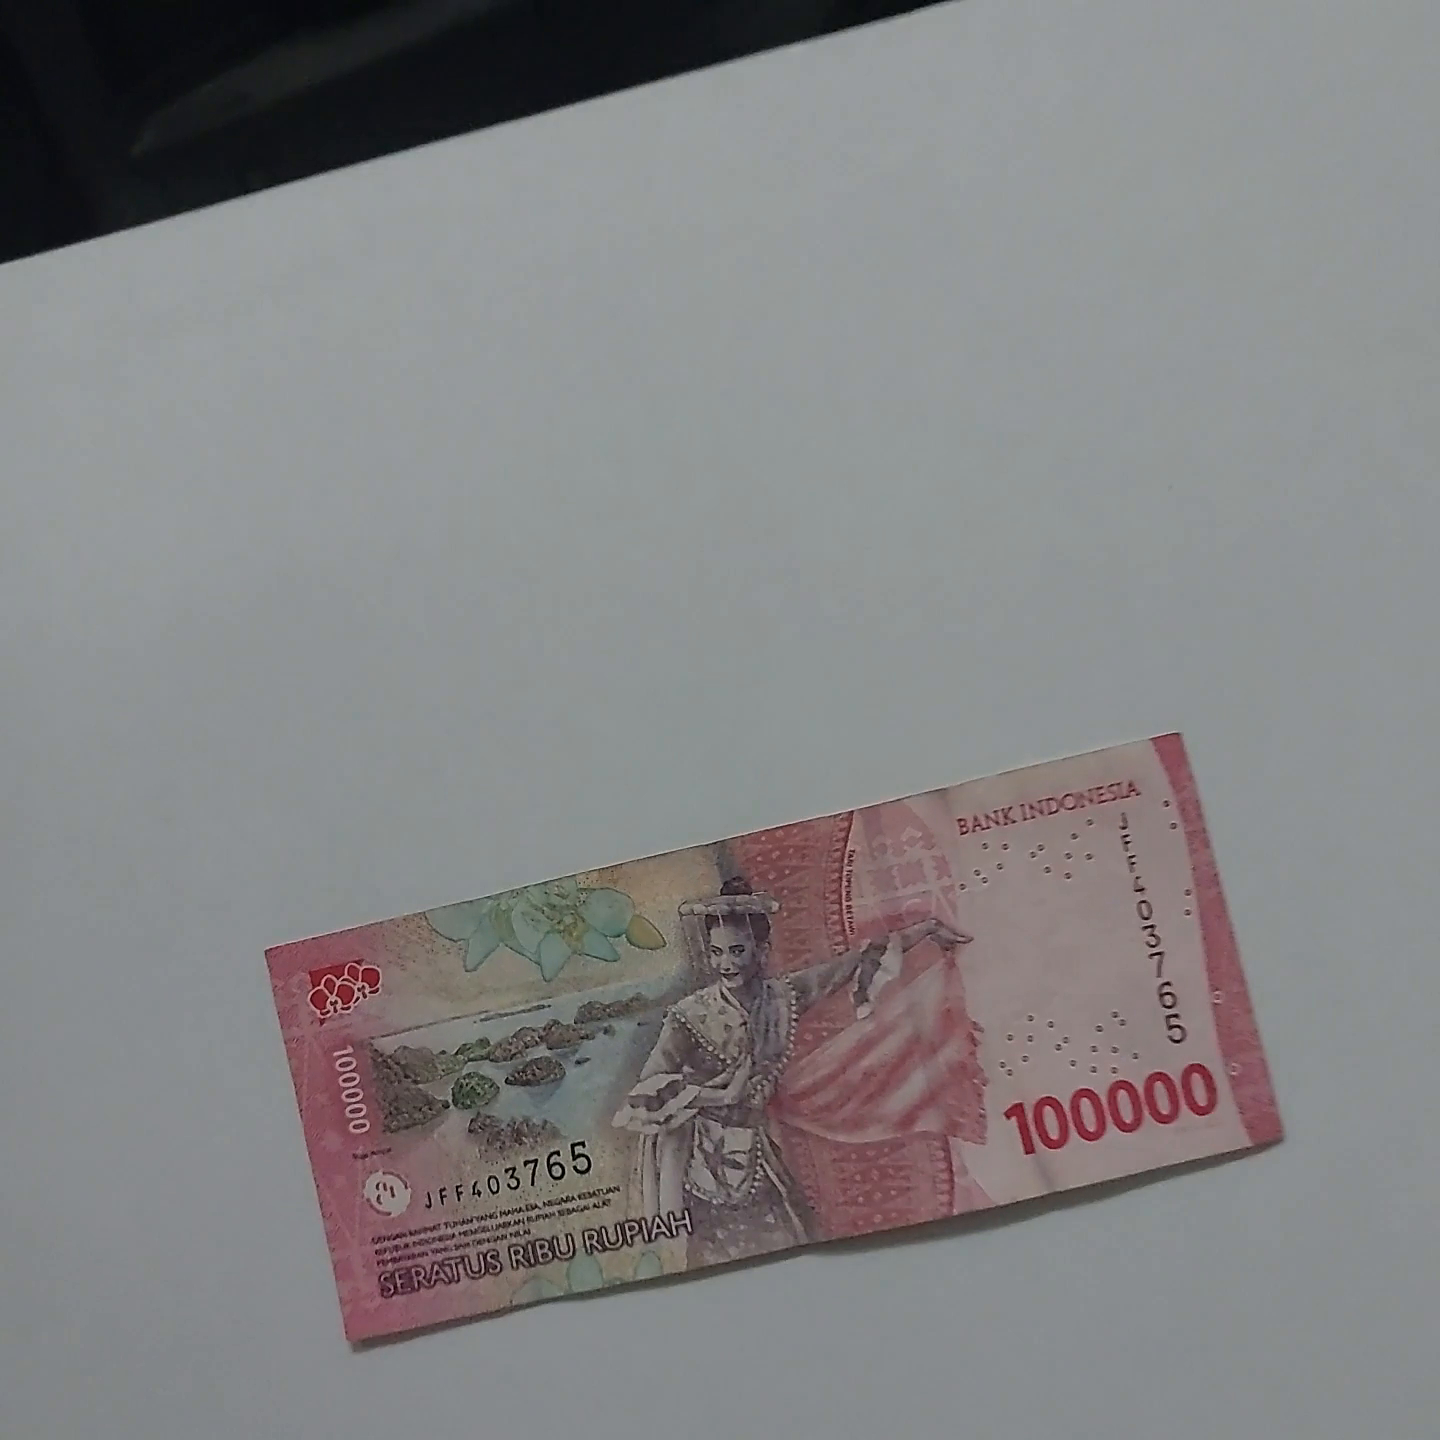100k: (232, 947, 1232, 1385)
